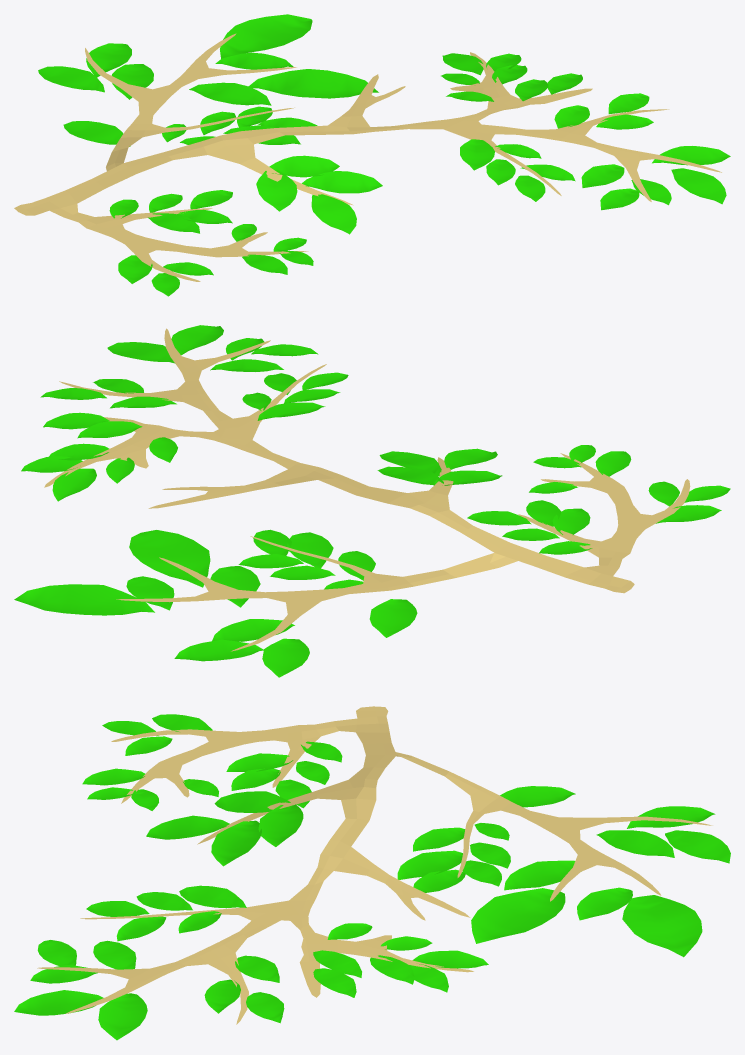
The model's file is vine.fbx.
3 renders of one model, top to bottom at view 1: azimuth 30°, elevation 25°; view 2: azimuth 150°, elevation 25°; view 3: azimuth 270°, elevation 25°, orthographic. The views are drawn at different scales.
Parts seen in each view (by area): view 1: Cube.003; view 2: Cube.003; view 3: Cube.003.
Boxes of the visible parts, <box> form: Cube.003: <box>14,14,730,296</box>; Cube.003: <box>14,325,730,677</box>; Cube.003: <box>14,706,730,1040</box>.
Size of the model in its own units: 0.8847 by 0.0561 by 0.8201.
